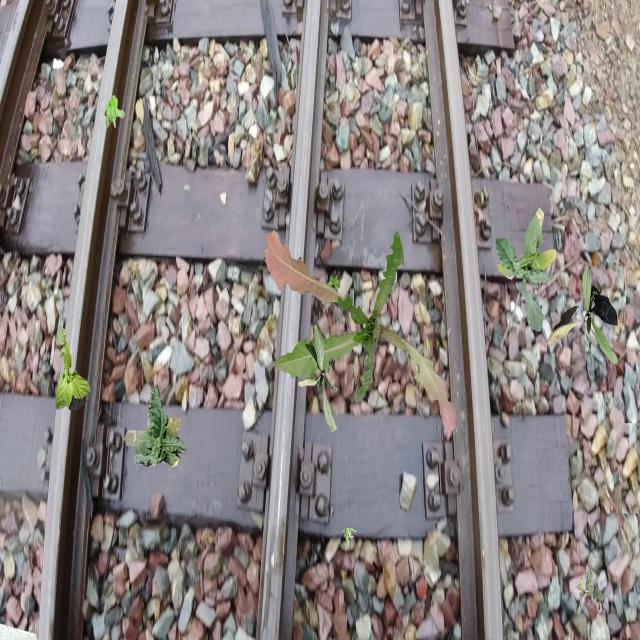Plant: (264, 229, 456, 432), (495, 207, 558, 332), (546, 265, 618, 364), (124, 385, 188, 468), (298, 323, 338, 433), (56, 328, 92, 412), (576, 569, 604, 610), (104, 95, 125, 128), (321, 273, 341, 306), (343, 528, 357, 548)
